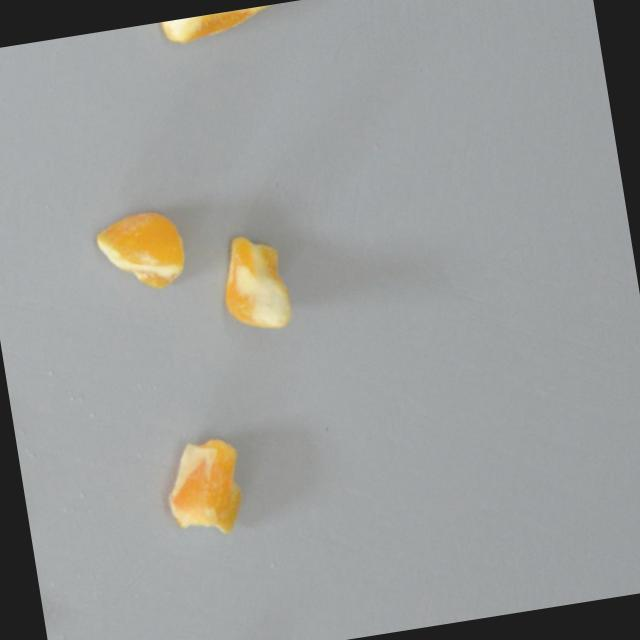pelicula: (153, 432, 253, 550), (207, 226, 298, 339), (90, 205, 194, 302), (152, 2, 284, 50)
